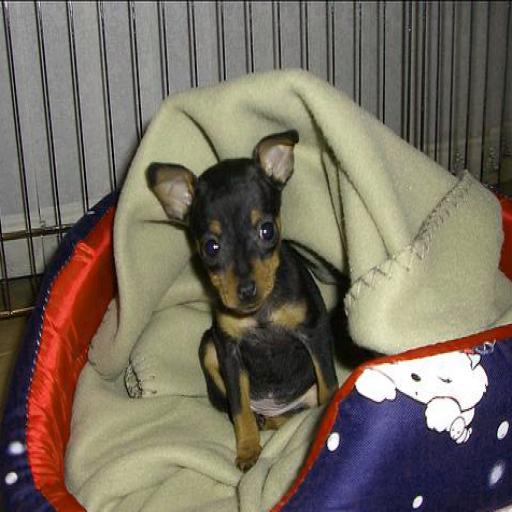dog_face: (149, 124, 298, 323)
